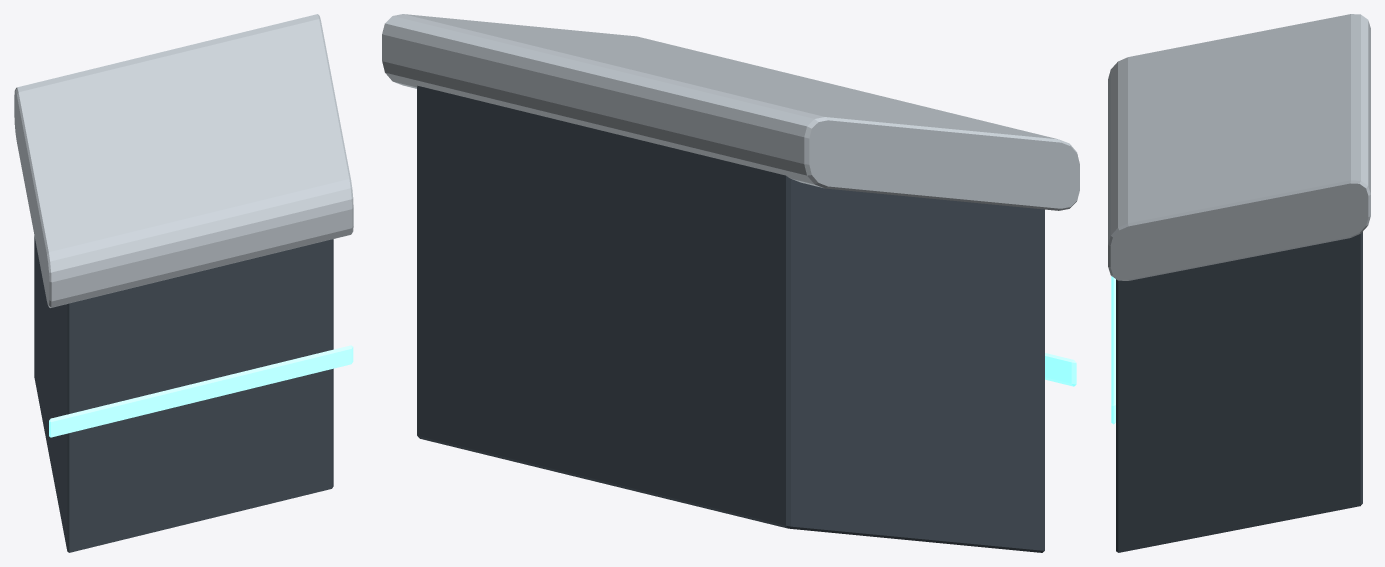
File: Bridge_Deck.gltf
The picture shows the model from 3 angles, left to right: view 1: azimuth 30°, elevation 25°; view 2: azimuth 150°, elevation 25°; view 3: azimuth 270°, elevation 25°; orthographic projection. The views are drawn at different scales.
Visible parts, largest first — view 1: Bridge_Deck_baked; view 2: Bridge_Deck_baked; view 3: Bridge_Deck_baked.
Part boxes in pixels (bbox=[...]): Bridge_Deck_baked: bbox=[14, 14, 353, 552]; Bridge_Deck_baked: bbox=[382, 14, 1079, 552]; Bridge_Deck_baked: bbox=[1108, 14, 1370, 552].
Size of the model in its own units: 1.26 by 1.17 by 0.66.
